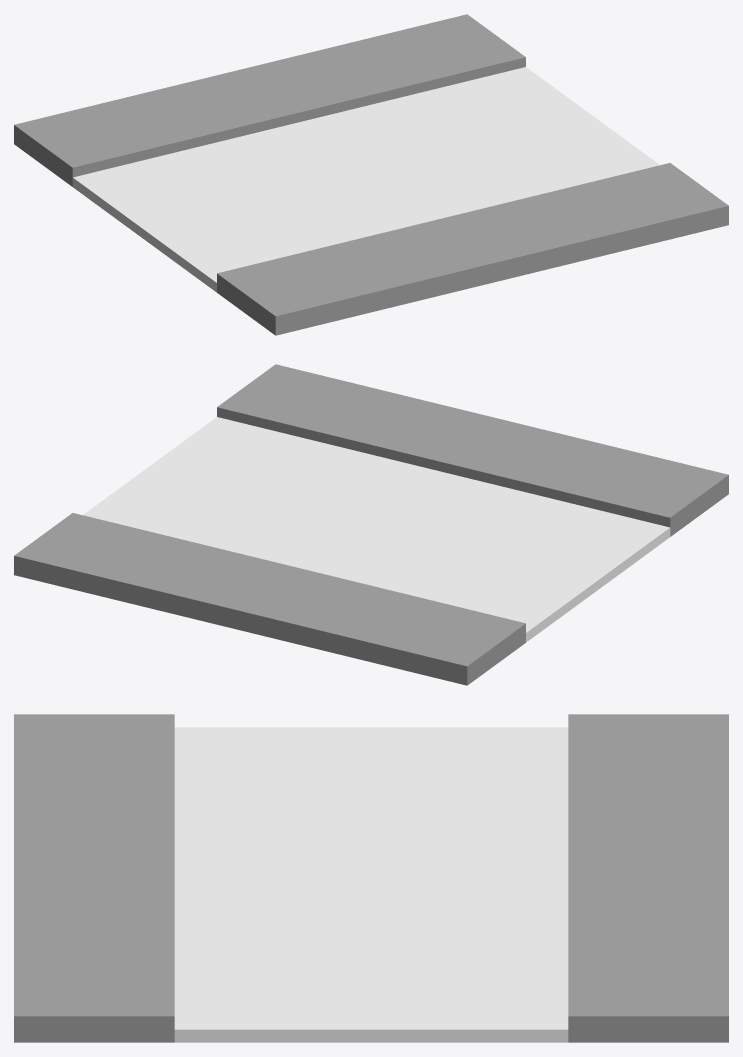
Rendered from road_49.gltf.
The picture shows the model from 3 angles, top to bottom: view 1: azimuth 30°, elevation 25°; view 2: azimuth 150°, elevation 25°; view 3: azimuth 270°, elevation 25°; orthographic projection. The views are drawn at different scales.
Visible parts, largest first — view 1: stone, tar, ink; view 2: stone, tar, ink; view 3: tar, stone, ink.
Boxes of the visible parts, <box> form: stone: <box>14,14,728,335</box>; tar: <box>78,71,659,288</box>; ink: <box>72,67,600,292</box>; stone: <box>14,364,728,685</box>; tar: <box>83,421,664,638</box>; ink: <box>142,417,670,642</box>; tar: <box>189,727,553,1042</box>; stone: <box>14,714,728,1042</box>; ink: <box>174,727,568,1042</box>.
Bounding box in the file's own units: 49 × 2 × 49.
Materials: 3 (3 with a texture image).
